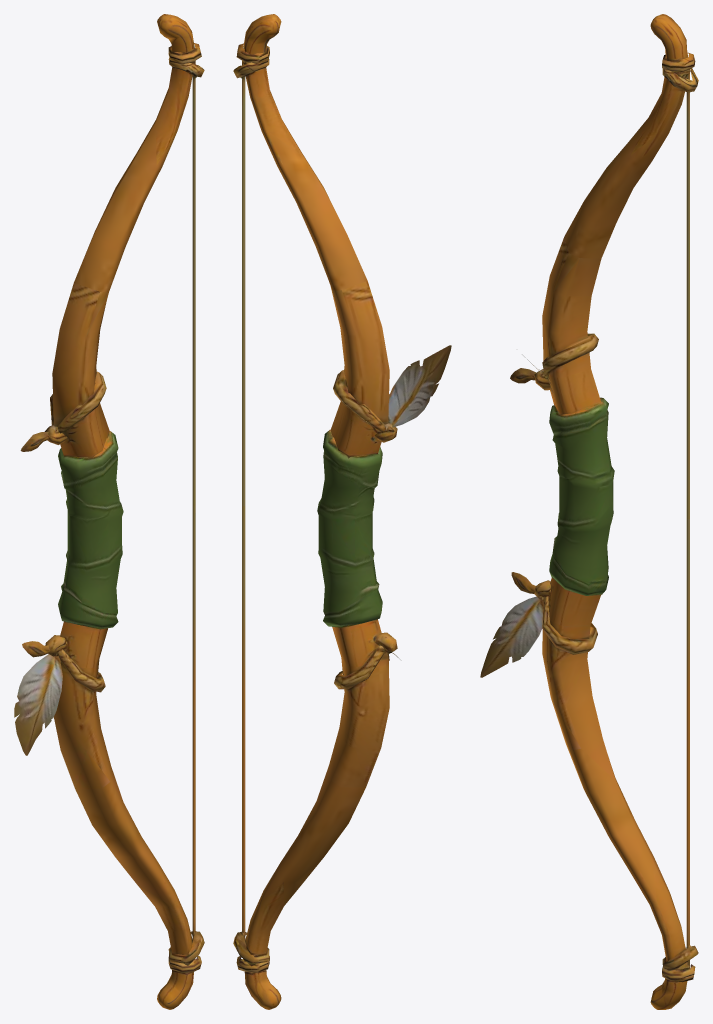
The model's file is fletcher_s_guild_bow.glb.
The picture shows the model from 3 angles, left to right: view 1: azimuth 30°, elevation 25°; view 2: azimuth 150°, elevation 25°; view 3: azimuth 330°, elevation 25°; orthographic projection.
Visible parts, largest first — view 1: tripo_node_9303cc7d-b850-4688-bffb-f174220f04d2; view 2: tripo_node_9303cc7d-b850-4688-bffb-f174220f04d2; view 3: tripo_node_9303cc7d-b850-4688-bffb-f174220f04d2.
Boxes of the visible parts, left/top/right/bottom form: tripo_node_9303cc7d-b850-4688-bffb-f174220f04d2: left=14, top=14, right=204, bottom=1009; tripo_node_9303cc7d-b850-4688-bffb-f174220f04d2: left=233, top=14, right=451, bottom=1009; tripo_node_9303cc7d-b850-4688-bffb-f174220f04d2: left=480, top=14, right=698, bottom=1009.
Bounding box in the file's own units: 0.3763 × 1.8 × 0.1101.
Materials: 1 (1 with a texture image).
